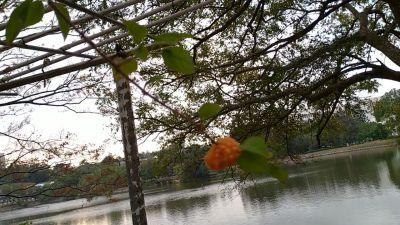eggs: (204, 137, 243, 170)
